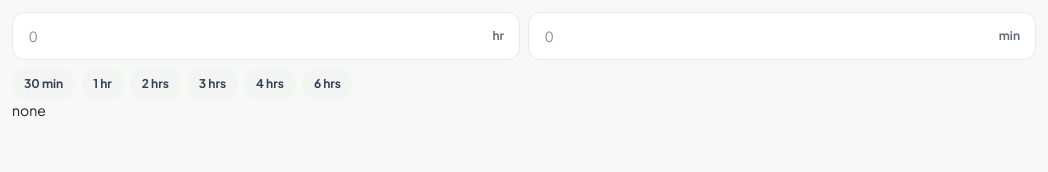
DurationInput › fills both fields from a preset and caps at 24 hours
Click the button "2 hrs" at [155, 84], box [130,68,181,100]
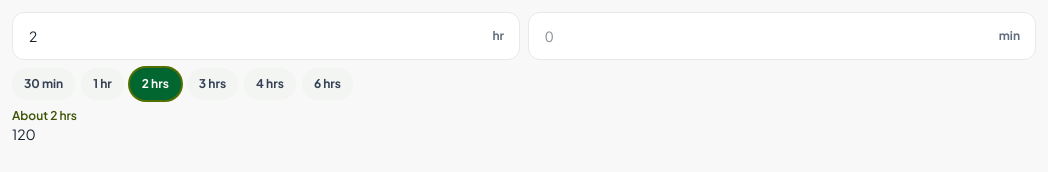
Expected: the field named "Hours" holds "2"
Expected: the text named "Total" reads "120", [12,125,36,143]
Replace the text in the field named "Hours" with "30" at [266, 36], box [12,12,520,60]
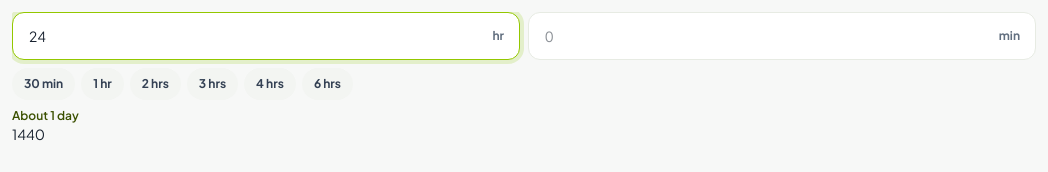
Expected: the text named "Total" reads "1440", [12,125,45,143]
